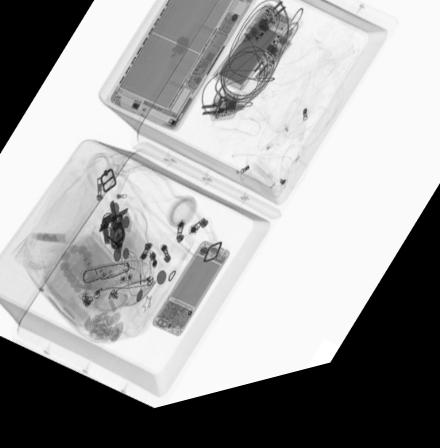Powerbank: (212, 17, 295, 103)
